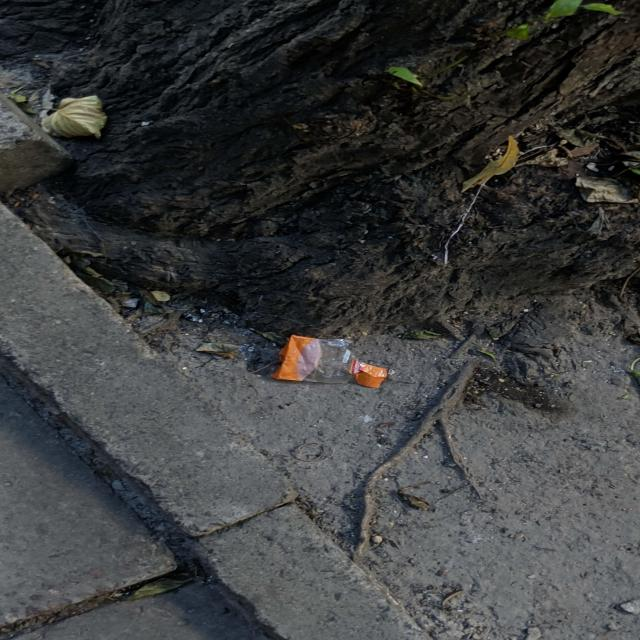litter: (270, 335, 388, 388)
